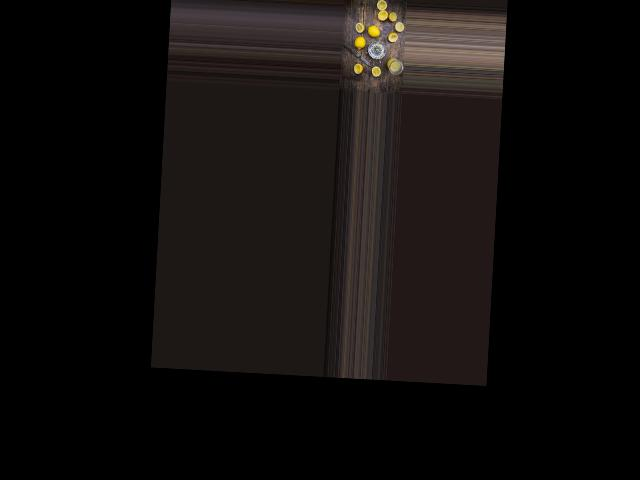lemon: (354, 31, 367, 49)
